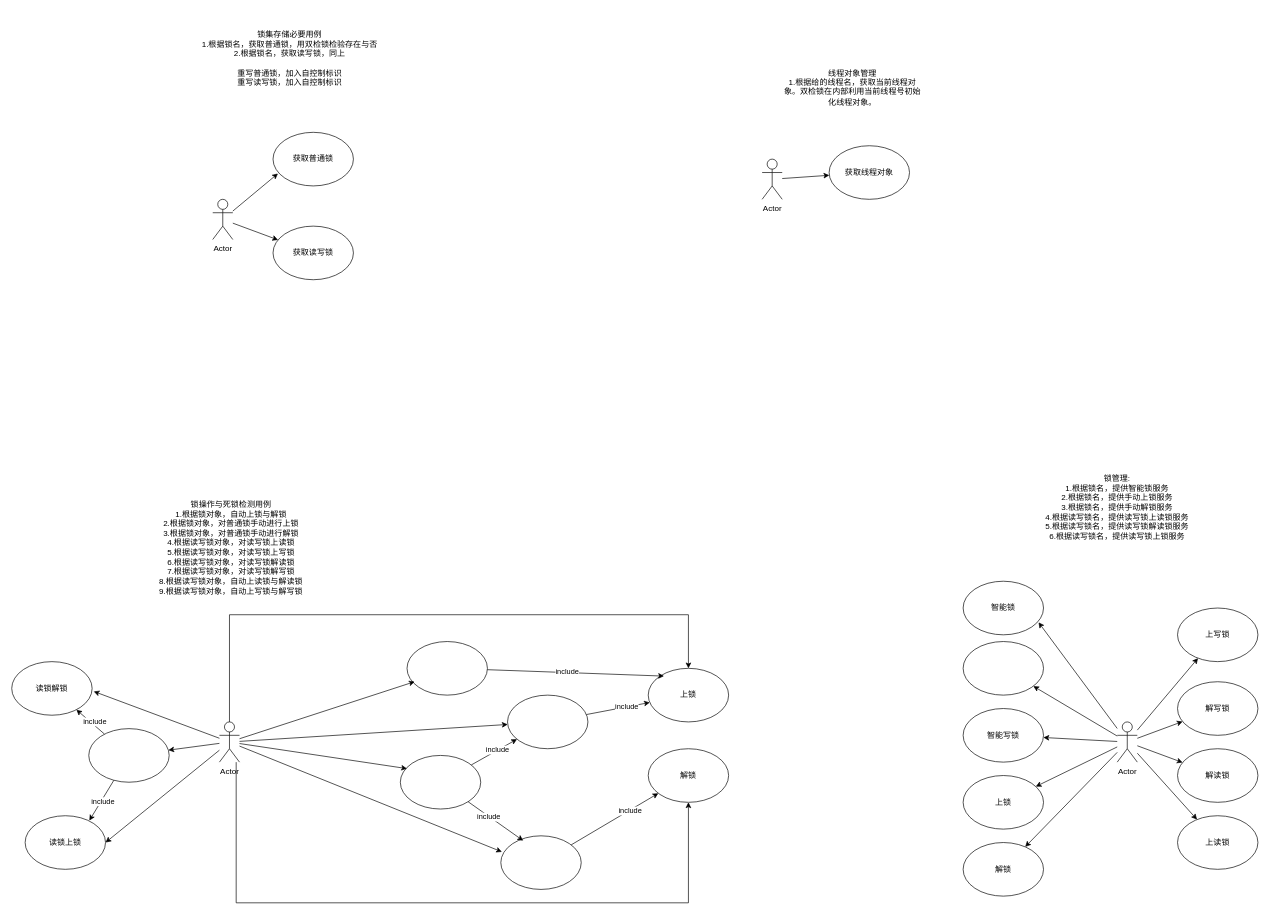
The diagram is 1270 pixels wide and 920 high, and some of its shapes have lost their labels. Each missing label, with the centre of its shape:
"写锁上锁" goes at [547,721].
"写锁解锁" goes at [540,862].
"智能读锁" goes at [1003,668].
"自动写锁与解写锁" goes at [440,782].
"自动读锁与解读锁" goes at [128,755].
"自动锁与解锁" goes at [446,668].
